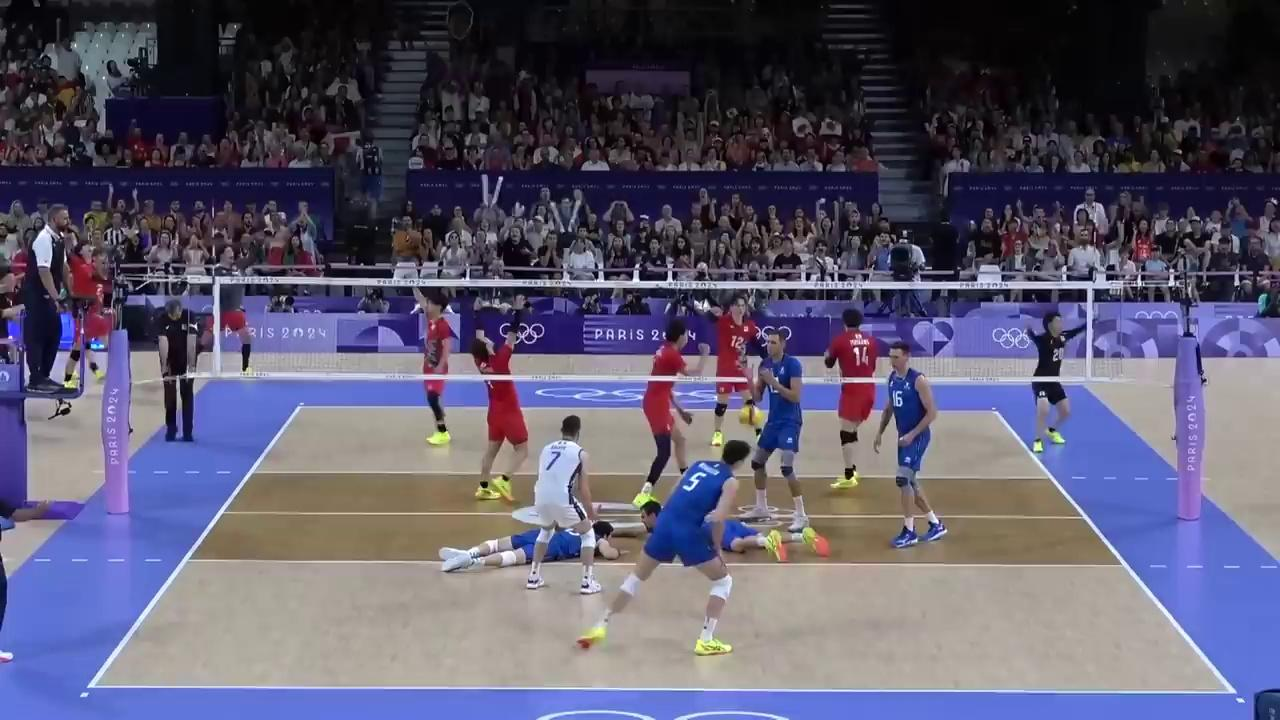ball: (740, 404, 761, 427)
